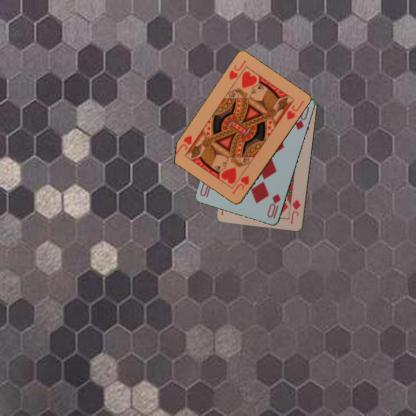10d: (265, 191, 282, 221)
Jd: (288, 197, 302, 225)
Jh: (229, 173, 251, 196), (226, 58, 247, 81)
